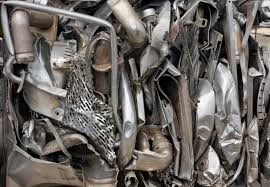metal: (6, 134, 120, 187), (19, 33, 83, 127), (205, 57, 249, 166), (108, 58, 149, 169), (181, 69, 220, 169), (126, 119, 182, 176), (101, 1, 153, 49), (5, 6, 44, 64)
